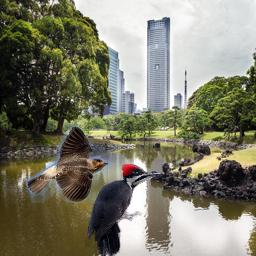Swallow: (26, 125, 111, 203)
Woodpecker: (84, 163, 163, 256)
